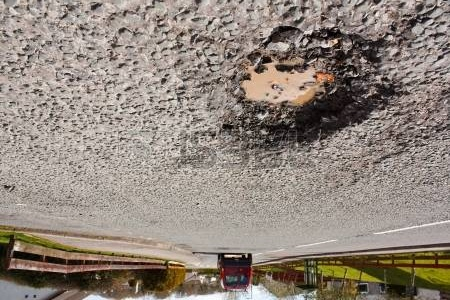pothole: (207, 22, 392, 157)
